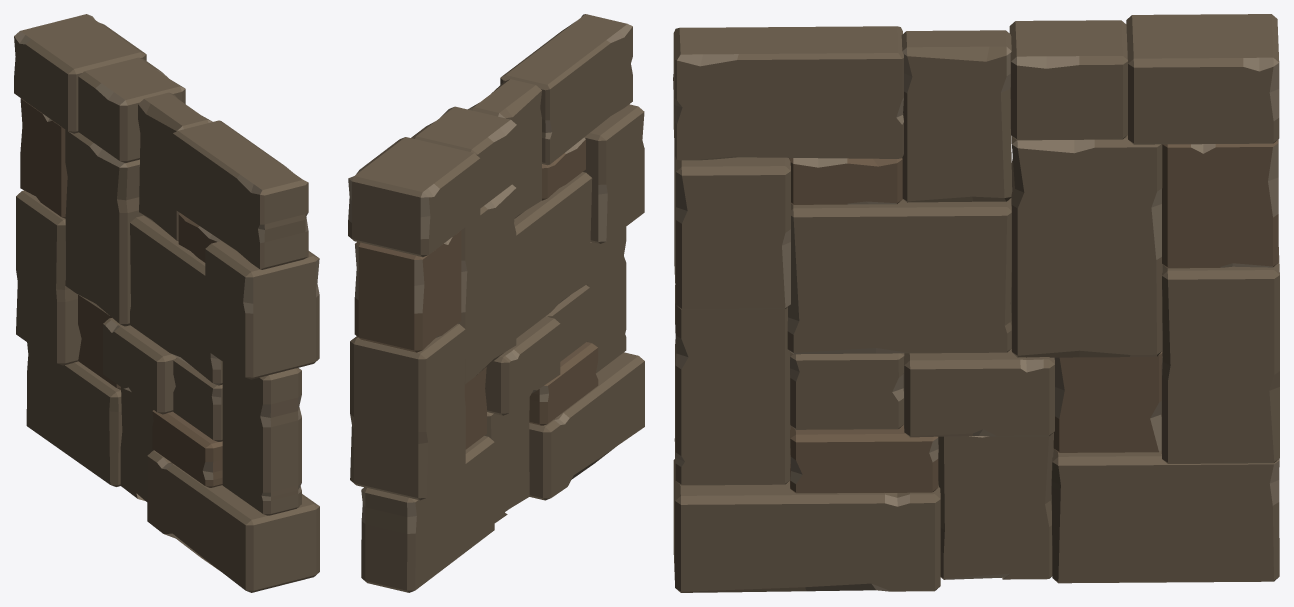
Rendered from final_wall_west_7_lev3.glb.
The picture shows the model from 3 angles, left to right: view 1: azimuth 30°, elevation 25°; view 2: azimuth 150°, elevation 25°; view 3: azimuth 270°, elevation 25°; orthographic projection. The views are drawn at different scales.
Parts seen in each view (by area): view 1: final_wall_west_7_lev3; view 2: final_wall_west_7_lev3; view 3: final_wall_west_7_lev3.
Boxes of the visible parts, <box> form: final_wall_west_7_lev3: <box>14,14,319,592</box>; final_wall_west_7_lev3: <box>348,14,644,592</box>; final_wall_west_7_lev3: <box>673,14,1279,592</box>.
Size of the model in its own units: 1.3 by 5.94 by 6.13.
